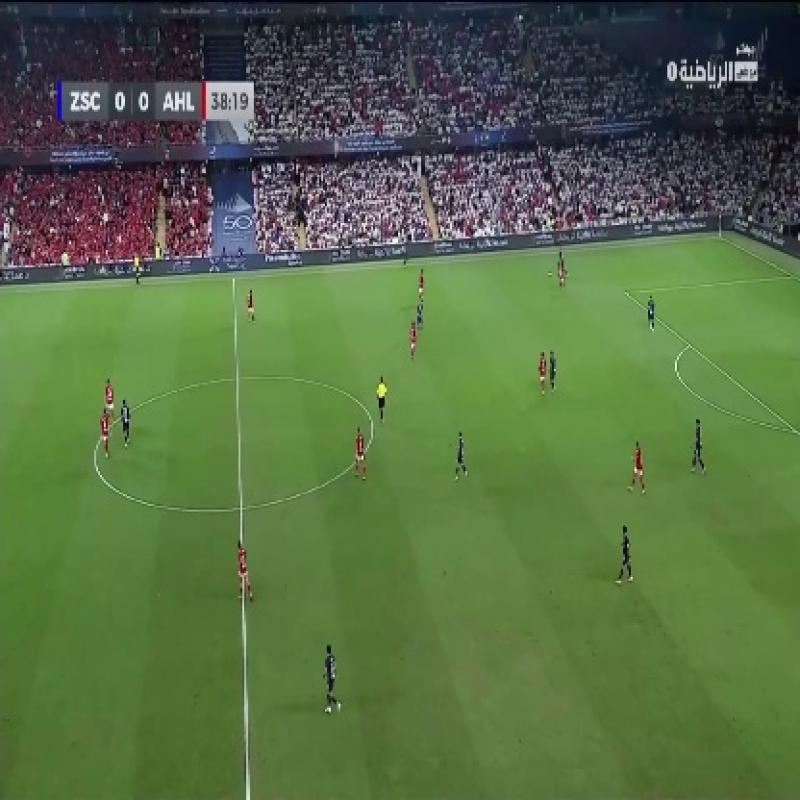1: (712, 233, 719, 238)
10: (684, 338, 694, 350)
11: (790, 419, 798, 432)
13: (226, 272, 239, 284)
14: (227, 368, 246, 390)
15: (231, 490, 248, 522)
9: (619, 286, 629, 296)
c: (78, 441, 112, 483), (360, 411, 382, 441)
